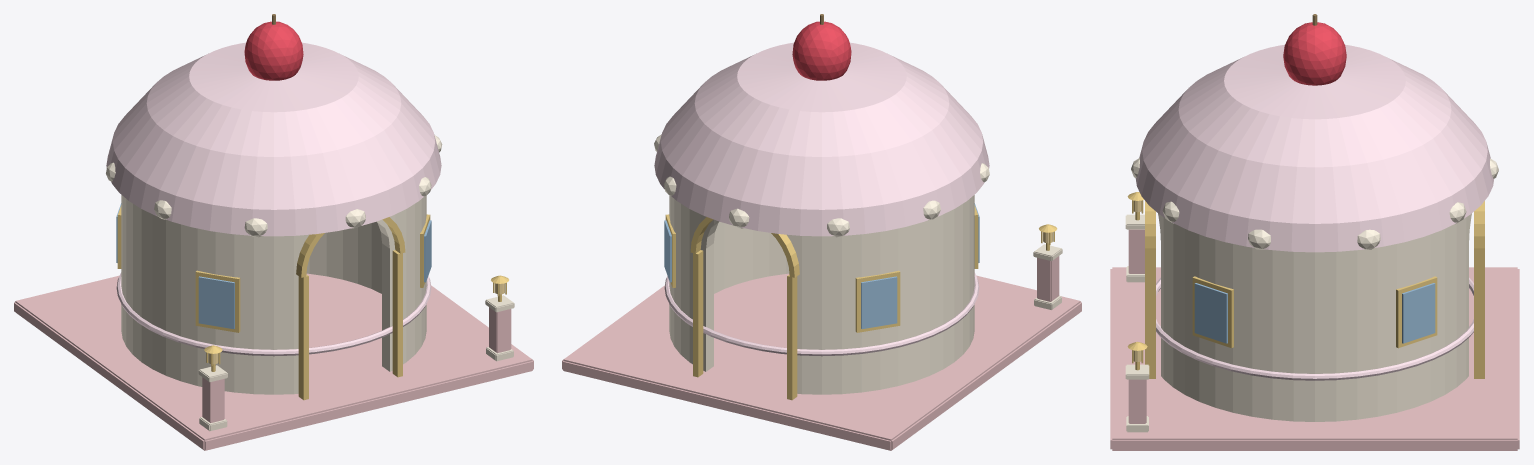
The model's file is HOB_House_Cake.fbx.
The picture shows the model from 3 angles, left to right: view 1: azimuth 30°, elevation 25°; view 2: azimuth 150°, elevation 25°; view 3: azimuth 270°, elevation 25°; orthographic projection. The views are drawn at different scales.
Visible parts, largest first — view 1: HOB_House_Cake; view 2: HOB_House_Cake; view 3: HOB_House_Cake.
Boxes of the visible parts, <box> form: HOB_House_Cake: <box>14,14,533,450</box>; HOB_House_Cake: <box>562,14,1081,450</box>; HOB_House_Cake: <box>1110,14,1519,450</box>.
Bounding box in the file's own units: 900 × 850 × 900.
